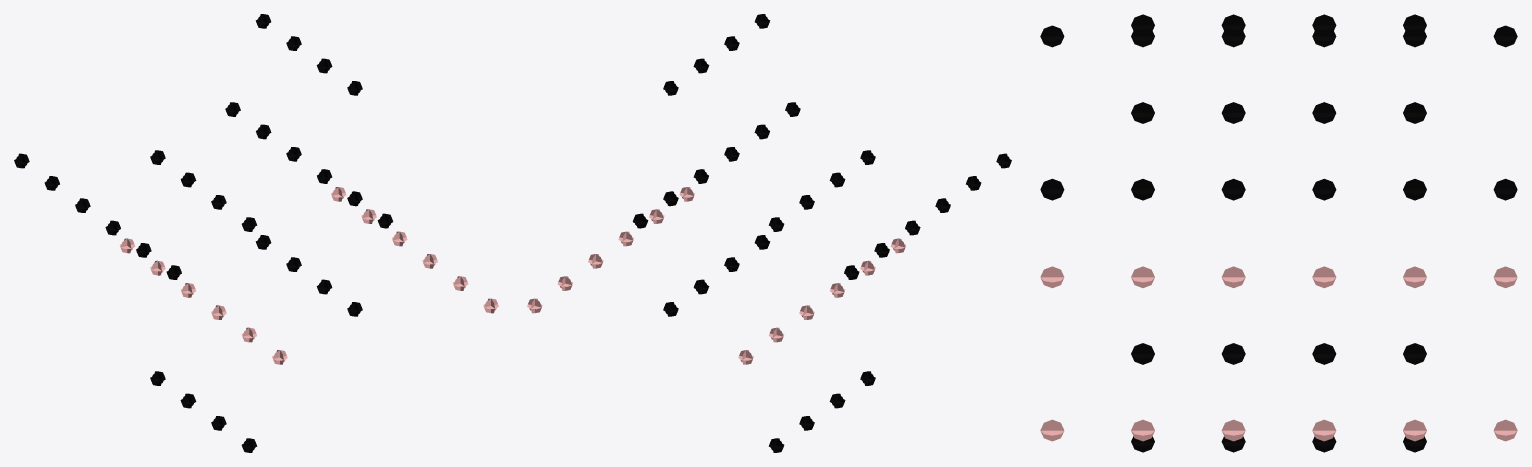
The model's file is matchgraph_d=3_rounds=5_p=0.01.gltf.
3 views of the same model, side by side, from view 1: azimuth 30°, elevation 25°; view 2: azimuth 150°, elevation 25°; view 3: azimuth 270°, elevation 25° (orthographic). The views are drawn at different scales.
Size of the model in its own units: 18.8 by 18.8 by 15.8.
